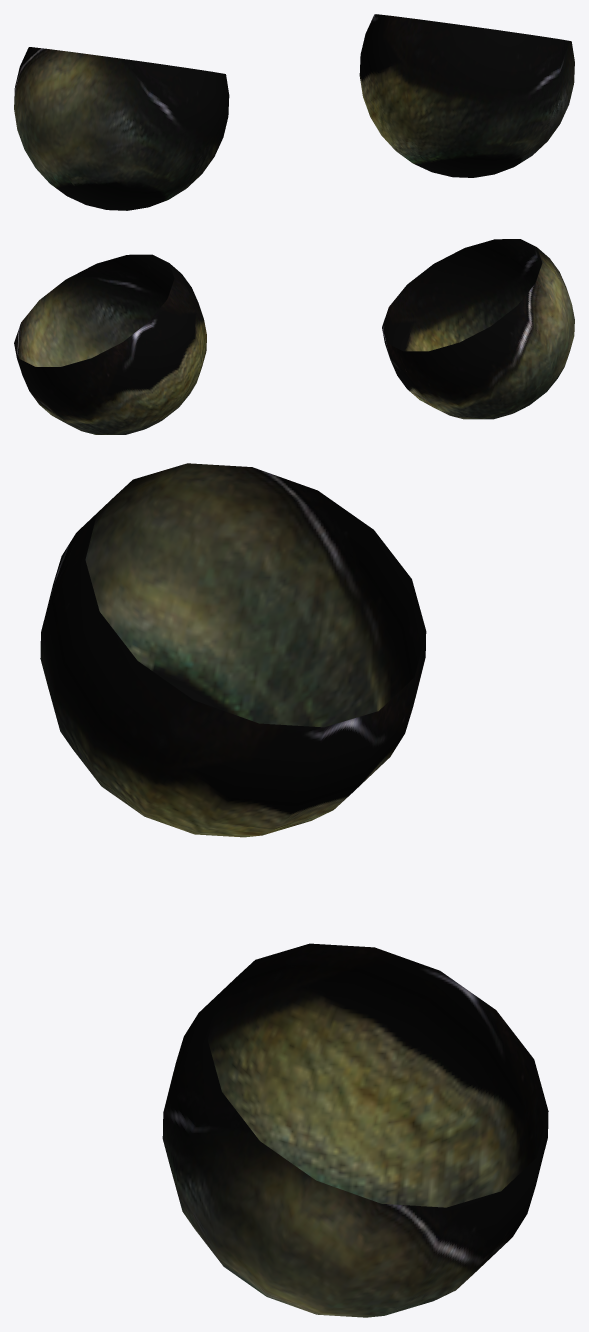
Rendered from cat_black__material_105.obj.
The picture shows the model from 3 angles, top to bottom: view 1: azimuth 30°, elevation 25°; view 2: azimuth 150°, elevation 25°; view 3: azimuth 270°, elevation 25°; orthographic projection. The views are drawn at different scales.
Visible parts, largest first — view 1: Export_sk_player_cat_lod0_Material_#105_0; view 2: Export_sk_player_cat_lod0_Material_#105_0; view 3: Export_sk_player_cat_lod0_Material_#105_0.
Boxes of the visible parts, x1=… form: Export_sk_player_cat_lod0_Material_#105_0: x1=14, y1=14, x2=574, y2=210; Export_sk_player_cat_lod0_Material_#105_0: x1=14, y1=239, x2=574, y2=434; Export_sk_player_cat_lod0_Material_#105_0: x1=40, y1=463, x2=548, y2=1317.
Size of the model in its own units: 1.91 by 0.8316 by 0.8355.
Materials: 1 (1 with a texture image).
